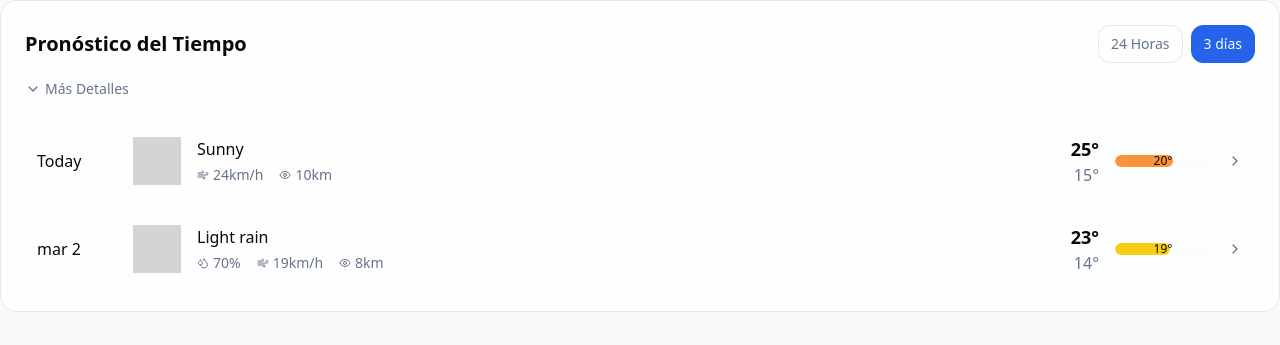
Test: DailyForecast › shows less details when clicking Menos Detalles
What coordinates should you click on to do the following:
click the button "Más Detalles"
I would click on:
 (87, 88)
Its box is [25, 79, 1255, 99].
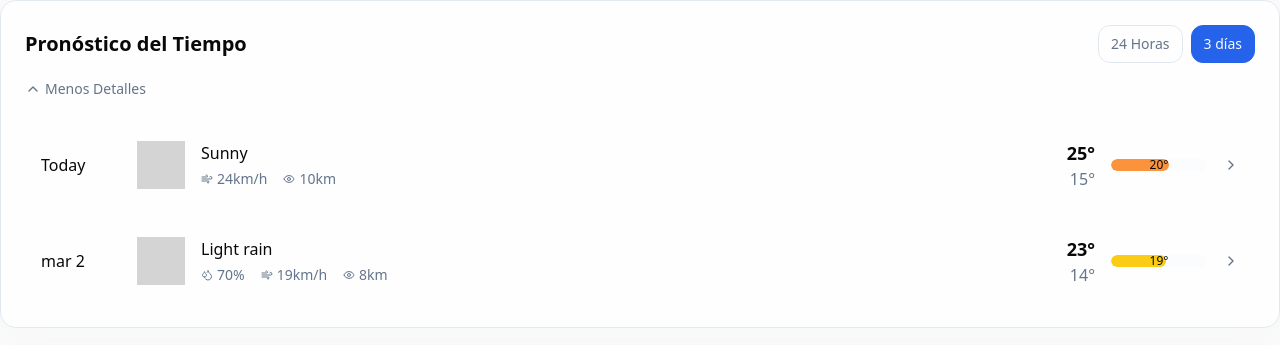
What coordinates should you click on to do the following:
click the button "Menos Detalles"
I would click on:
 (95, 88)
Its box is [25, 79, 1255, 99].
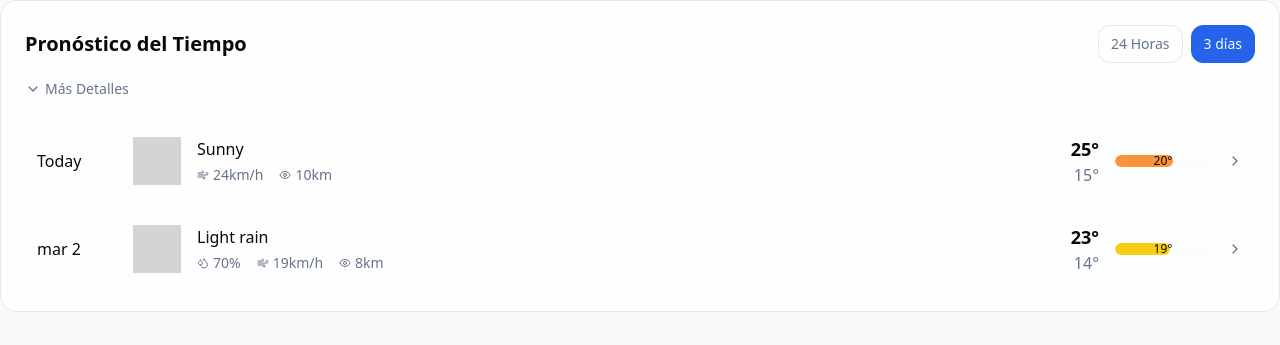
Check: the text "Más Detalles" is shown, box [45, 79, 129, 99]
